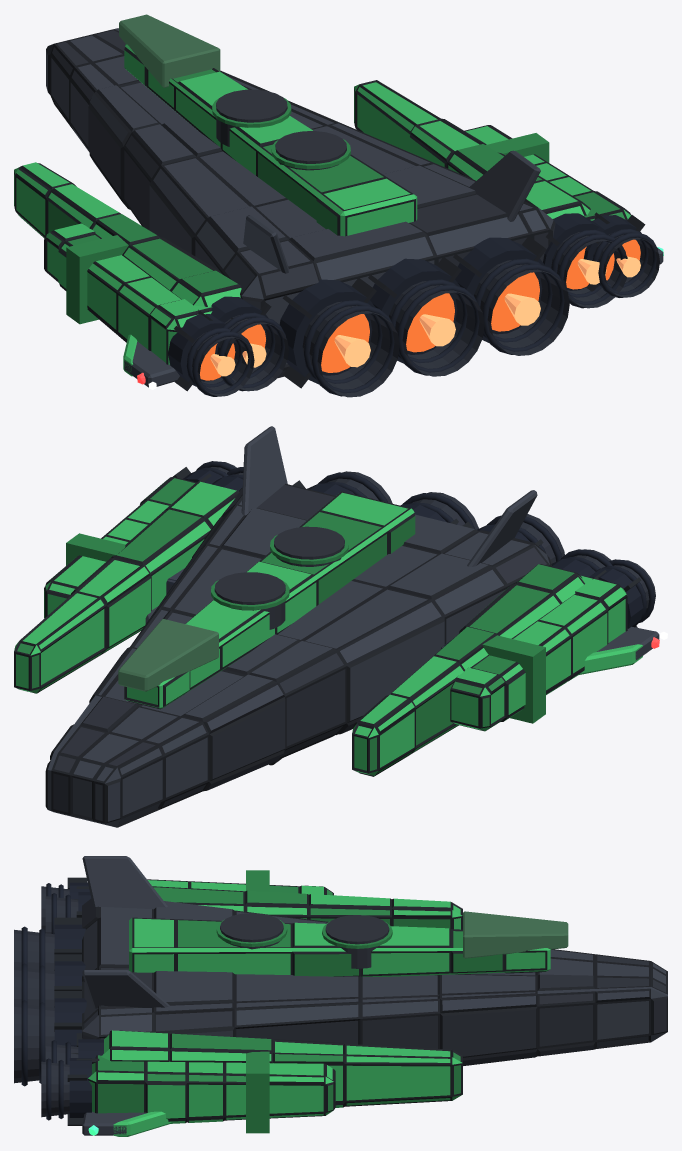
The model's file is raptor.glb.
The picture shows the model from 3 angles, top to bottom: view 1: azimuth 30°, elevation 25°; view 2: azimuth 150°, elevation 25°; view 3: azimuth 270°, elevation 25°; orthographic projection. The views are drawn at different scales.
Parts seen in each view (by area): view 1: raptor_mesh; view 2: raptor_mesh; view 3: raptor_mesh.
Boxes of the visible parts, bbox=[...] form: raptor_mesh: bbox=[14, 14, 663, 397]; raptor_mesh: bbox=[14, 426, 659, 827]; raptor_mesh: bbox=[14, 856, 667, 1136].
Bounding box in the file's own units: 9.18 × 2.6 × 11.16.
